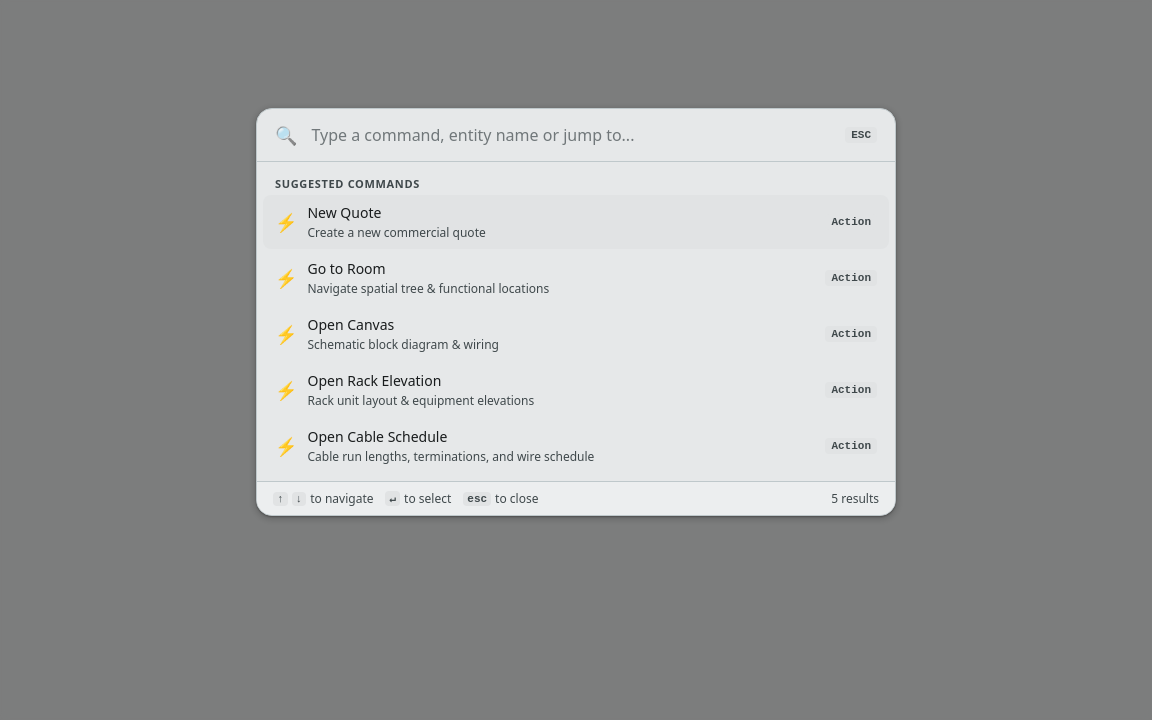
Scenario: Search Integration with Live Topology Endpoint (OB.W6 / Batch 144) › fetches via native fetch when no custom fetcher is provided
This screenshot has width=1152, height=720.
Type "Auditorium AV Rack" into the dropdown at (571, 135), box [310,123,833,147]
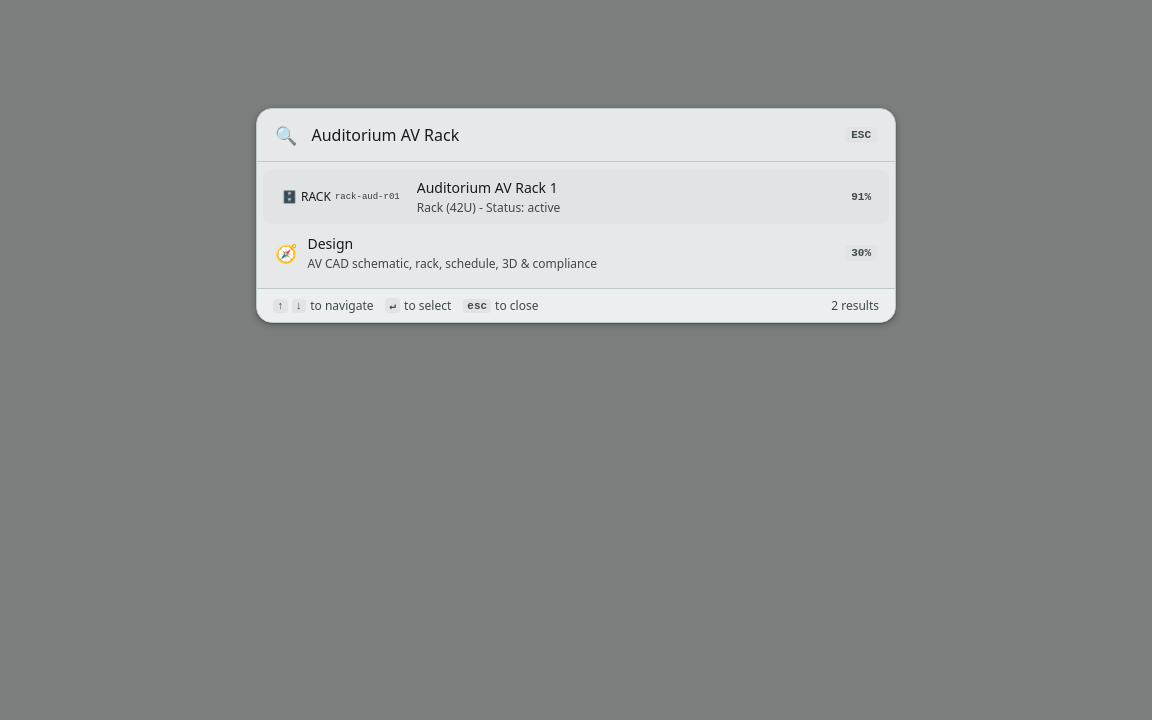
Result: the text "Auditorium AV Rack 1" is shown at [417,178,560,197]
